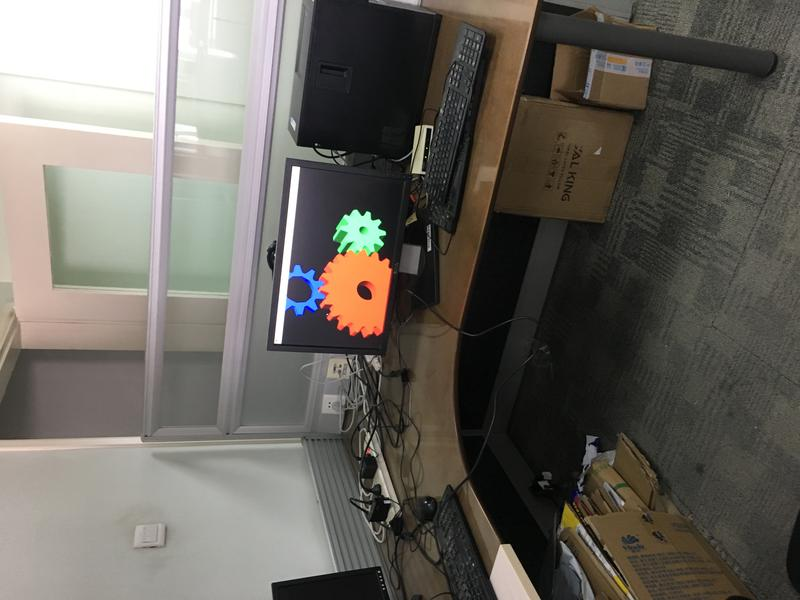glxgears_pass: (281, 198, 392, 346)
